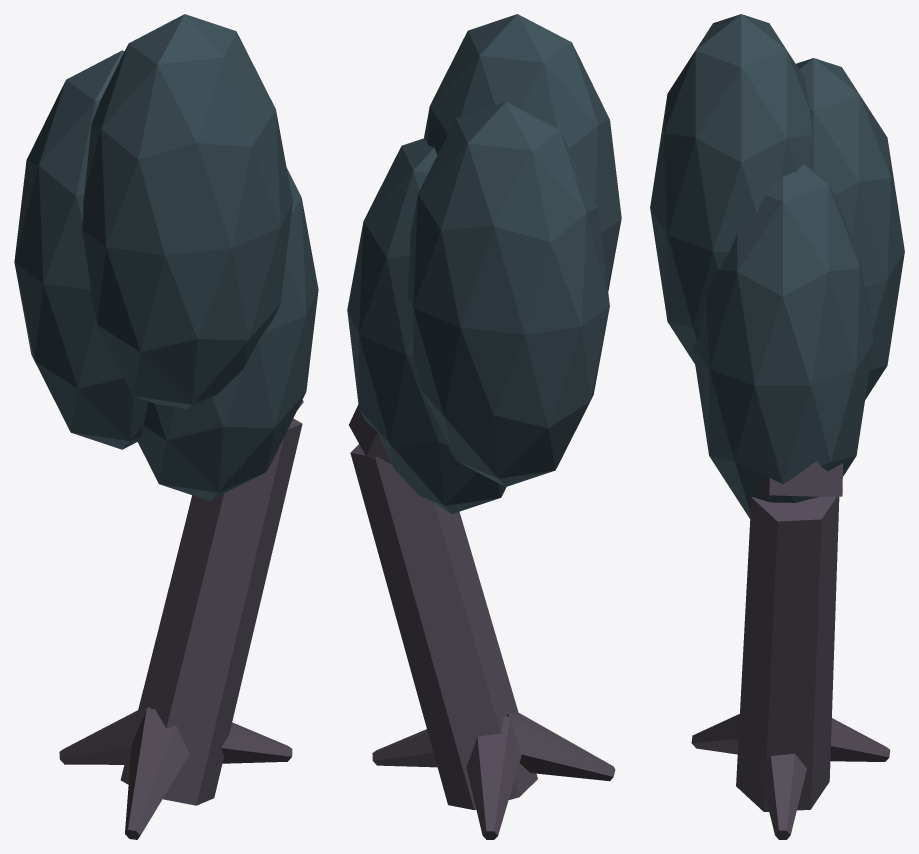
The model's file is map-boundaries-v5__grave_01.glb.
3 views of the same model, side by side, from view 1: azimuth 30°, elevation 25°; view 2: azimuth 150°, elevation 25°; view 3: azimuth 270°, elevation 25° (orthographic). The views are drawn at different scales.
Parts seen in each view (by area): view 1: grave_01; view 2: grave_01; view 3: grave_01.
Boxes of the visible parts, box(x1,y1,x2,y2) form: grave_01: box(14, 14, 318, 839); grave_01: box(347, 14, 621, 839); grave_01: box(650, 14, 904, 839).
Bounding box in the file's own units: 0.9235 × 2.73 × 0.8108.
